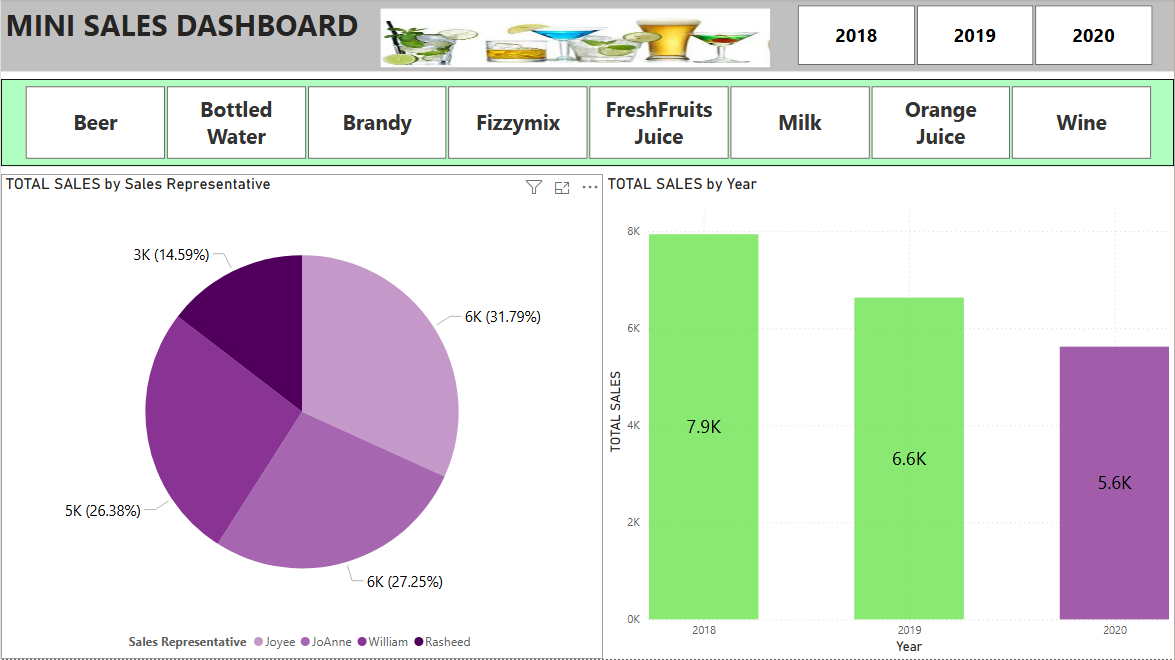

This screenshot's page, from the dashboard's own definition file:
{"tool":"powerbi","page":{"name":"mini 3","canvas":[1280,720],"ordinal":2},"visuals":[{"type":"textbox","box":[0,0,1280,78.6],"z":0},{"type":"slicer","fields":{"Values":["Sales.Date.Variation.Date Hierarchy.Year"]},"box":[843.5,0,436.5,78.6],"z":1},{"type":"slicer","fields":{"Values":["Product.Product Key"]},"box":[0,87.3,1280,94.9],"z":2},{"type":"pieChart","fields":{"Y":["Sales.TOTAL SALES"],"Category":["Product.Sales Representative"]},"box":[0,191,656.9,529.2],"z":3},{"type":"clusteredColumnChart","fields":{"Category":["Sales.Date.Variation.Date Hierarchy.Year"],"Y":["Sales.TOTAL SALES"]},"box":[657,191,623,529],"z":4},{"type":"image","box":[409,5.2,434.8,73.5],"z":5}]}

Visuals, with their boxes in screenshot pixels (x1, y1, x2, y2), scaled from the page's 1280x720 canvas onto the 1175x660 screenshot:
textbox: 0,0,1174,72
slicer - Sales.Date.Variation.Date Hierarchy.Year: 774,0,1174,72
slicer - Product.Product Key: 0,80,1174,167
pieChart - Sales.TOTAL SALES x Product.Sales Representative: 0,175,603,659
clusteredColumnChart - Sales.Date.Variation.Date Hierarchy.Year x Sales.TOTAL SALES: 603,175,1174,659
image: 375,5,775,72
